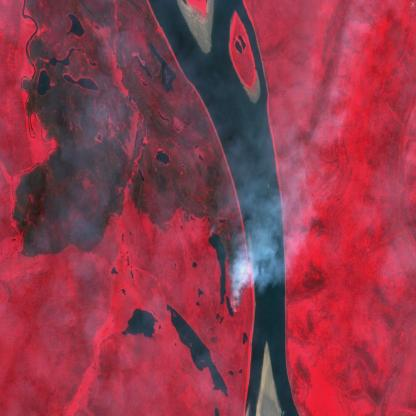fire: (224, 261, 254, 312)
